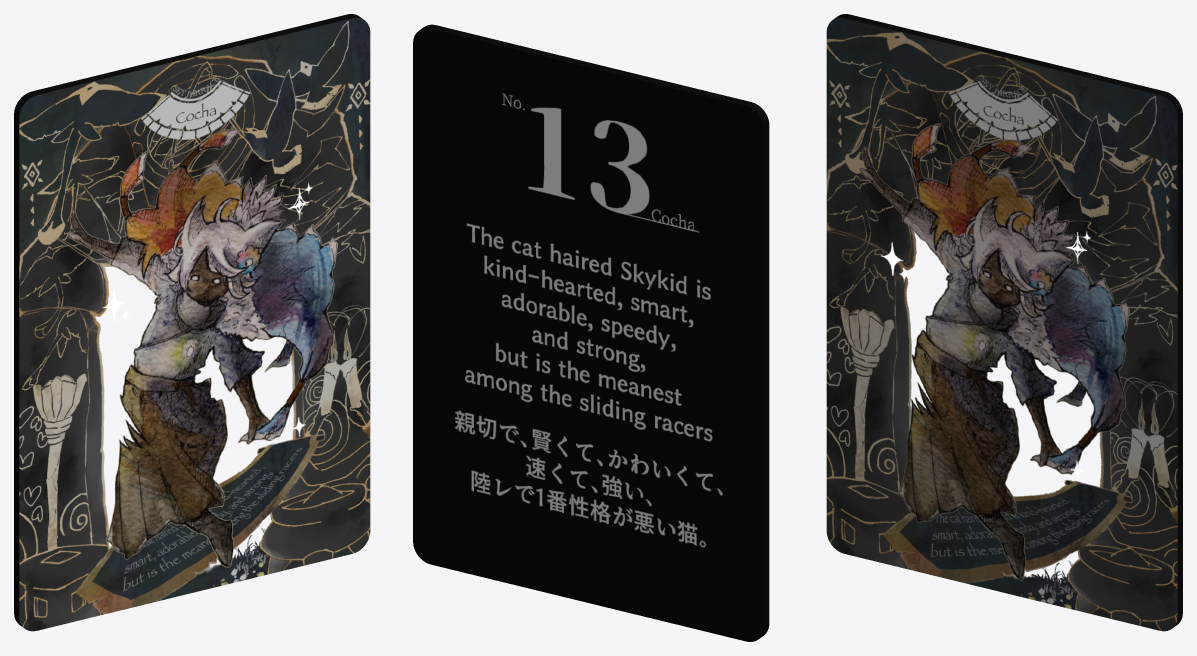
The model's file is 13_Cocha.glb.
The picture shows the model from 3 angles, left to right: view 1: azimuth 30°, elevation 25°; view 2: azimuth 150°, elevation 25°; view 3: azimuth 330°, elevation 25°; orthographic projection.
Visible parts, largest first — view 1: きらきら; view 2: きらきら; view 3: きらきら.
Part boxes in pixels (x1,y1,x2,y2): きらきら: [14, 14, 370, 631]; きらきら: [413, 24, 769, 641]; きらきら: [826, 14, 1182, 631].
Bounding box in the file's own units: 0.236 × 0.344 × 0.023.
Materials: 5 (4 with a texture image).
